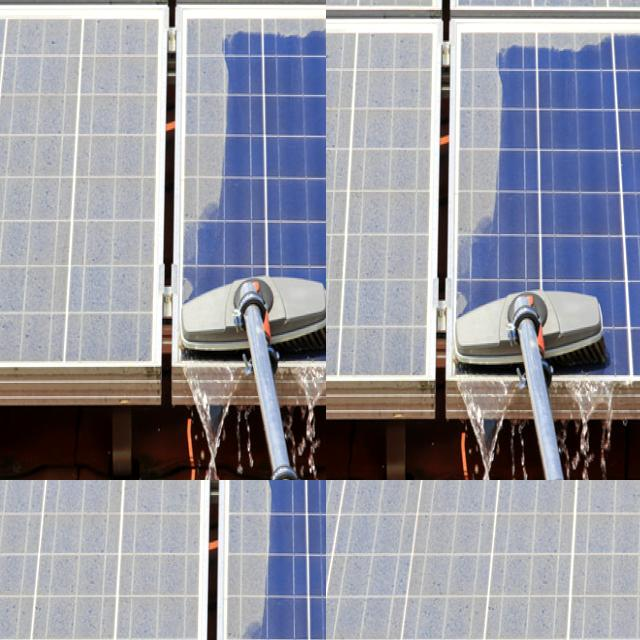bird: (0, 520, 53, 636), (124, 588, 205, 640)
crack: (407, 87, 640, 358), (326, 327, 573, 480), (326, 99, 471, 357), (348, 0, 528, 113), (524, 331, 640, 480), (485, 0, 640, 108), (599, 72, 640, 382), (326, 0, 423, 115), (326, 0, 408, 112), (607, 1, 640, 111)
dust: (326, 480, 508, 638), (520, 480, 640, 640)
panel: (159, 0, 274, 37), (290, 0, 326, 66)
